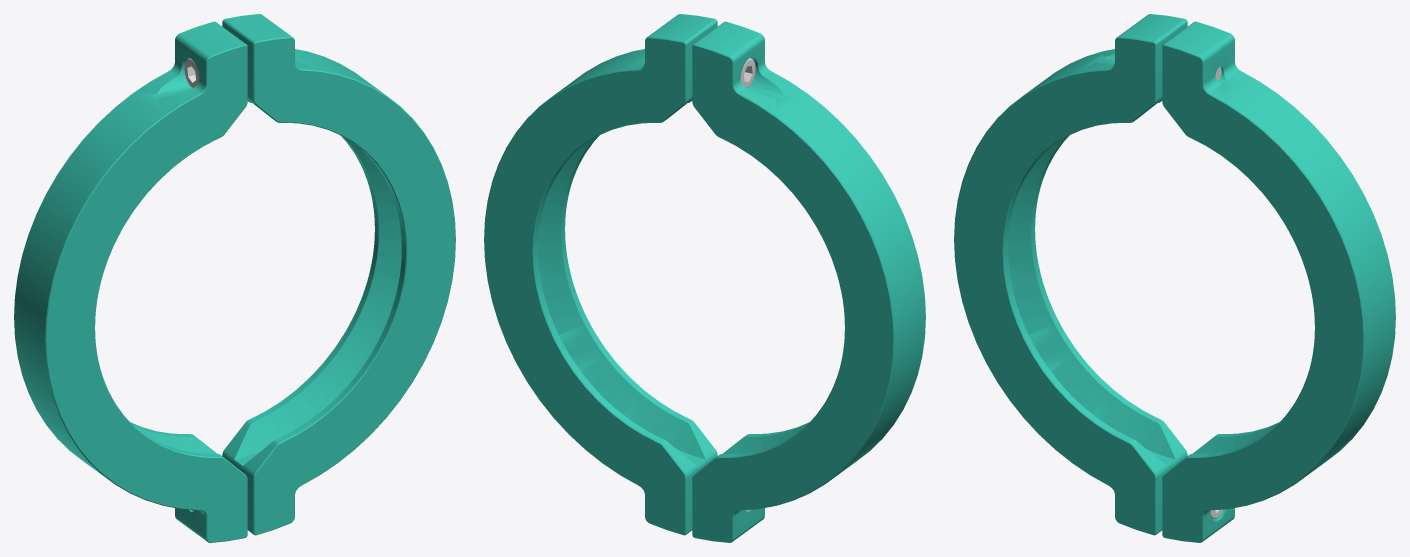
The picture shows the model from 3 angles, left to right: view 1: azimuth 30°, elevation 25°; view 2: azimuth 150°, elevation 25°; view 3: azimuth 330°, elevation 25°; orthographic projection.
Parts seen in each view (by area): view 1: C148; view 2: C148; view 3: C148.
Boxes of the visible parts, bbox=[...] form: C148: bbox=[14, 14, 455, 542]; C148: bbox=[484, 14, 925, 542]; C148: bbox=[954, 14, 1395, 542].
Size of the model in its own units: 0.148 by 0.17 by 0.02.
